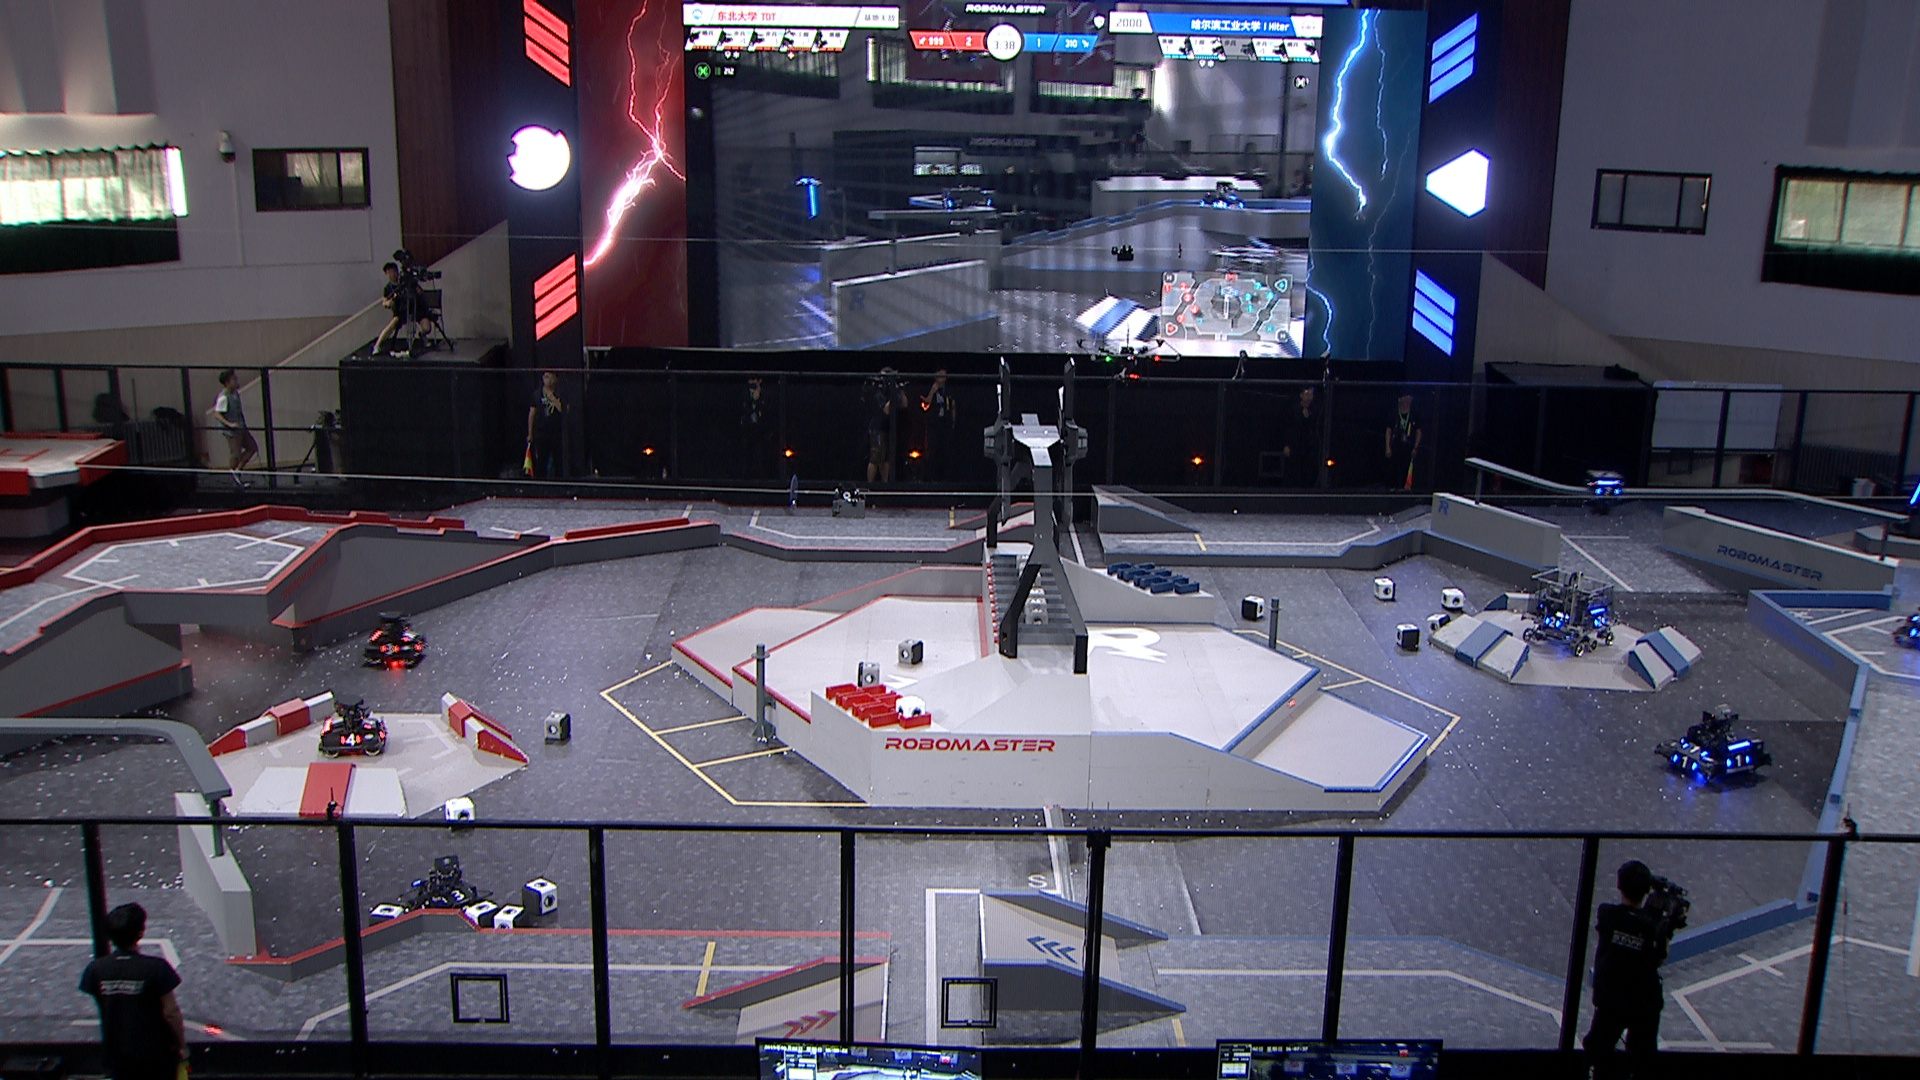armor: (1669, 752, 1698, 773), (442, 887, 472, 905), (1683, 740, 1708, 756), (377, 641, 400, 655), (340, 732, 361, 746), (1596, 487, 1621, 498), (1907, 483, 1920, 505), (400, 626, 417, 642), (1730, 756, 1747, 769), (363, 713, 378, 727), (1545, 616, 1561, 629), (1594, 615, 1607, 626), (380, 725, 389, 738)
base: (1884, 458, 1920, 549)
car: (1651, 703, 1778, 789), (1520, 566, 1617, 659), (404, 855, 485, 924), (313, 694, 390, 760), (363, 613, 429, 671), (1890, 589, 1920, 655)
ignore: (775, 177, 847, 244), (1207, 233, 1284, 272), (940, 177, 992, 219), (1200, 175, 1247, 214)
watcher: (1580, 469, 1633, 518)
